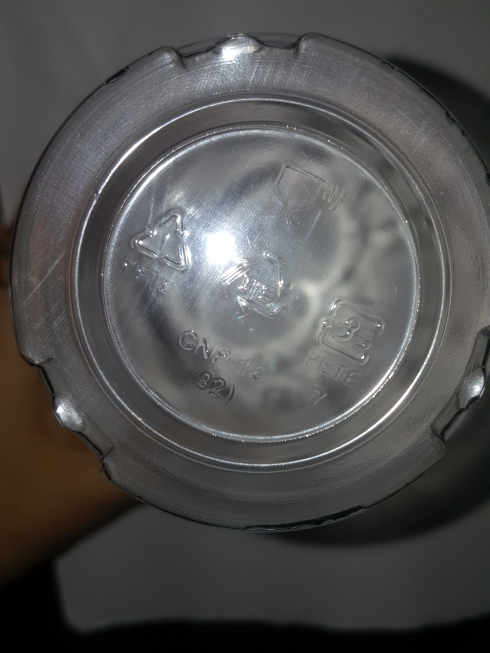recycle: (122, 191, 200, 298)
